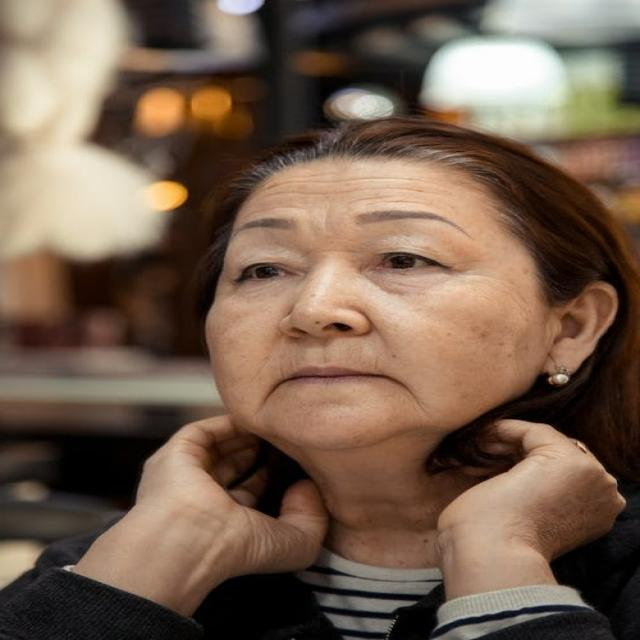Wrinkles: (265, 177, 455, 188), (349, 197, 390, 204), (459, 275, 508, 280), (334, 189, 392, 193), (370, 201, 424, 205), (258, 208, 287, 212), (243, 212, 258, 218), (262, 193, 286, 196), (286, 193, 331, 194), (287, 207, 305, 209), (326, 213, 327, 231)
